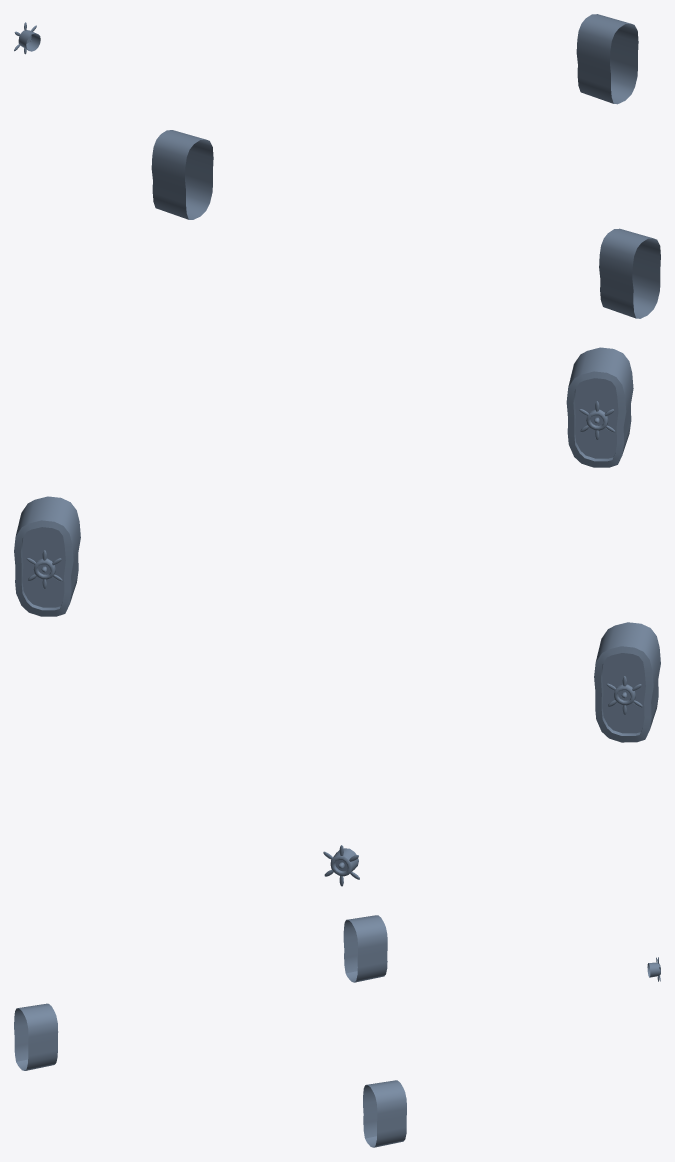
The picture shows the model from 3 angles, top to bottom: view 1: azimuth 30°, elevation 25°; view 2: azimuth 150°, elevation 25°; view 3: azimuth 270°, elevation 25°; orthographic projection. The views are drawn at different scales.
Visible parts, largest first — view 1: Object_10; view 2: Object_10; view 3: Object_10.
Boxes of the visible parts, <box> form: Object_10: <box>14,14,660,318</box>; Object_10: <box>14,347,660,886</box>; Object_10: <box>14,915,660,1147</box>.
Size of the model in its own units: 84.61 by 12.67 by 125.
